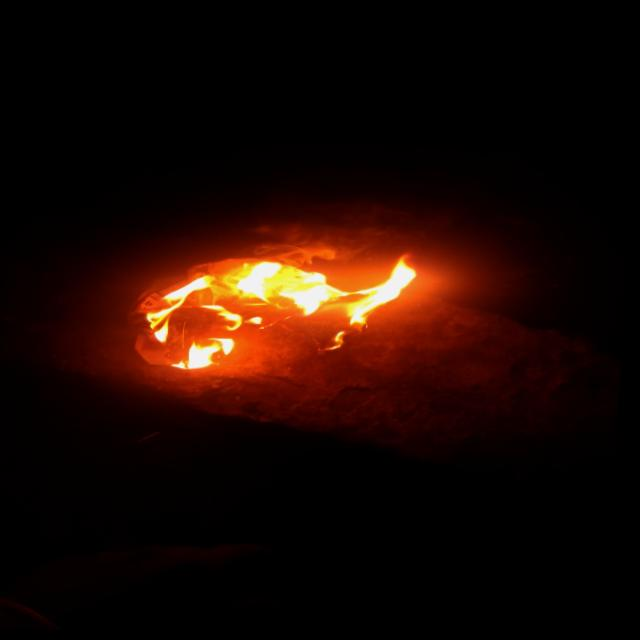Fire: (137, 243, 425, 382)
